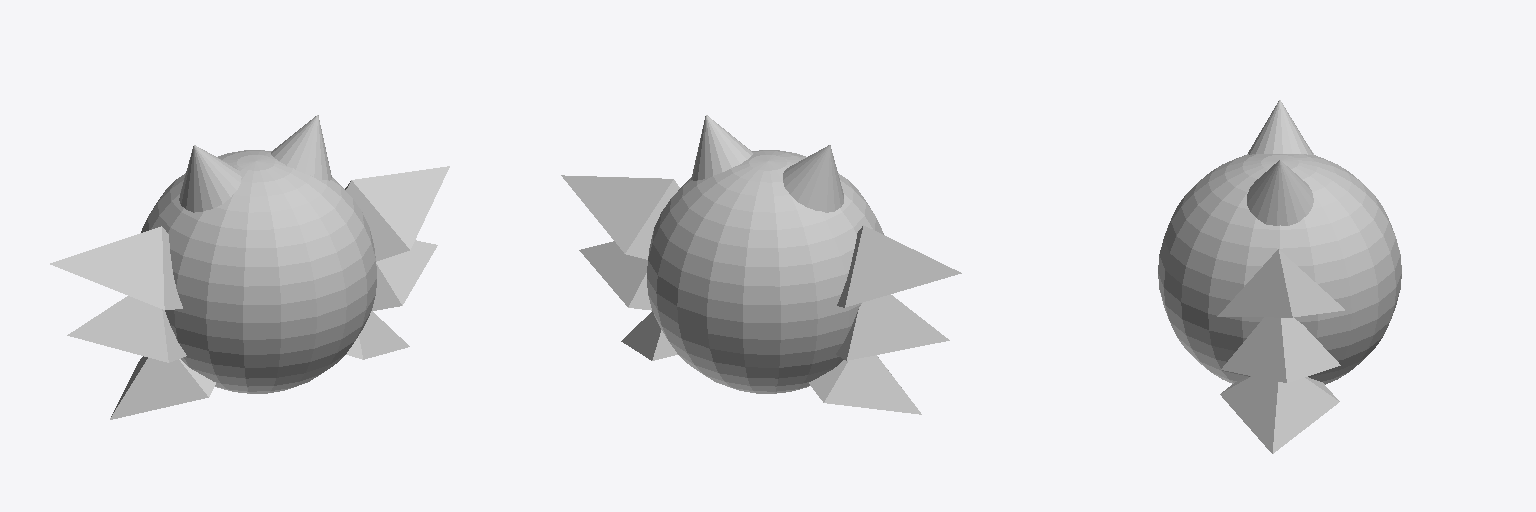
The model's file is Malus_dark.obj.
The picture shows the model from 3 angles: view 1: azimuth 30°, elevation 25°; view 2: azimuth 150°, elevation 25°; view 3: azimuth 270°, elevation 25°; orthographic projection.
Parts seen in each view (by area): view 1: polySurface16; view 2: polySurface16; view 3: polySurface16.
Part boxes in pixels (bbox=[...]): polySurface16: bbox=[50, 115, 449, 419]; polySurface16: bbox=[561, 115, 961, 414]; polySurface16: bbox=[1158, 100, 1401, 453].
Size of the model in its own units: 0.3795 by 0.2289 by 0.2.